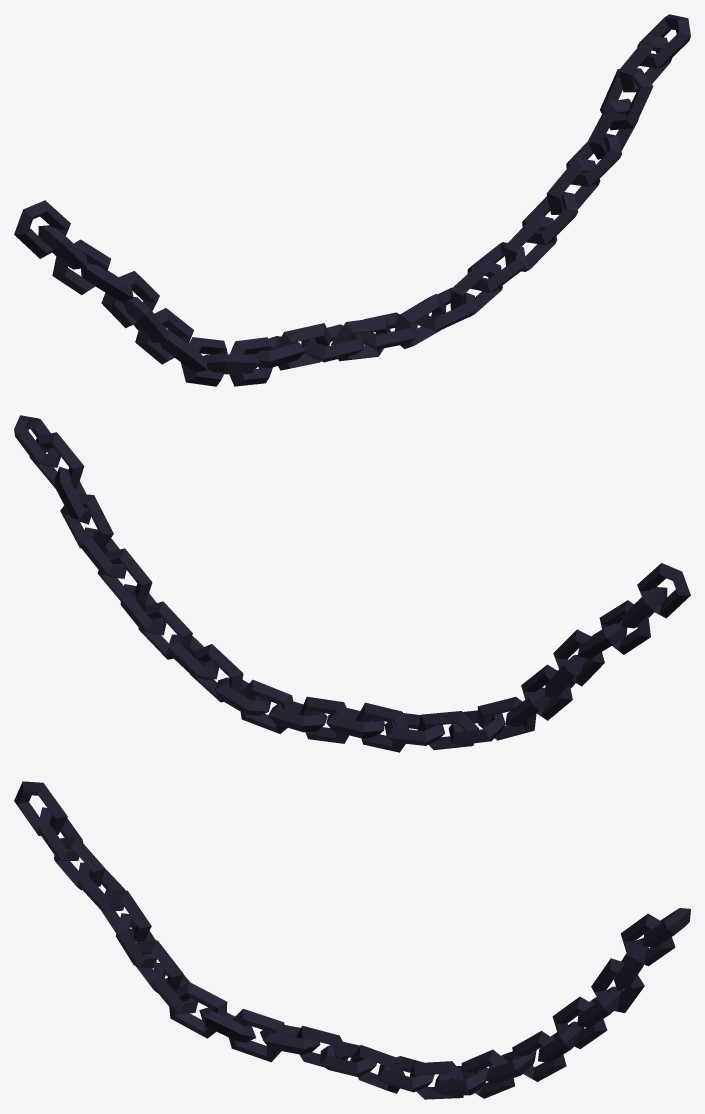
Rendered from MCastle_Fixtures_03.FBX.
The picture shows the model from 3 angles, top to bottom: view 1: azimuth 30°, elevation 25°; view 2: azimuth 150°, elevation 25°; view 3: azimuth 330°, elevation 25°; orthographic projection. The views are drawn at different scales.
Parts seen in each view (by area): view 1: MCastle_Fixtures_03_S3_LOD0, MCastle_Fixtures_03_S5_LOD0, MCastle_Fixtures_03_S2_LOD0, MCastle_Fixtures_03_S4_LOD0, MCastle_Fixtures_03_S1_LOD0; view 2: MCastle_Fixtures_03_S3_LOD0, MCastle_Fixtures_03_S2_LOD0, MCastle_Fixtures_03_S4_LOD0, MCastle_Fixtures_03_S5_LOD0, MCastle_Fixtures_03_S1_LOD0; view 3: MCastle_Fixtures_03_S3_LOD0, MCastle_Fixtures_03_S2_LOD0, MCastle_Fixtures_03_S1_LOD0, MCastle_Fixtures_03_S4_LOD0, MCastle_Fixtures_03_S5_LOD0.
Boxes of the visible parts, box(x1,y1,x2,y2) form: MCastle_Fixtures_03_S3_LOD0: box(249, 287, 475, 370); MCastle_Fixtures_03_S5_LOD0: box(566, 14, 690, 186); MCastle_Fixtures_03_S2_LOD0: box(122, 297, 272, 386); MCastle_Fixtures_03_S4_LOD0: box(450, 158, 600, 317); MCastle_Fixtures_03_S1_LOD0: box(14, 200, 159, 328); MCastle_Fixtures_03_S3_LOD0: box(214, 677, 444, 752); MCastle_Fixtures_03_S2_LOD0: box(418, 655, 587, 750); MCastle_Fixtures_03_S4_LOD0: box(97, 548, 243, 702); MCastle_Fixtures_03_S5_LOD0: box(14, 415, 126, 578); MCastle_Fixtures_03_S1_LOD0: box(553, 563, 690, 686); MCastle_Fixtures_03_S3_LOD0: box(260, 1025, 488, 1099); MCastle_Fixtures_03_S2_LOD0: box(115, 913, 285, 1062); MCastle_Fixtures_03_S1_LOD0: box(14, 781, 151, 941); MCastle_Fixtures_03_S4_LOD0: box(461, 996, 607, 1098); MCastle_Fixtures_03_S5_LOD0: box(577, 908, 690, 1027).
Bounding box in the file's own units: 4.17 × 1.54 × 0.4747.
